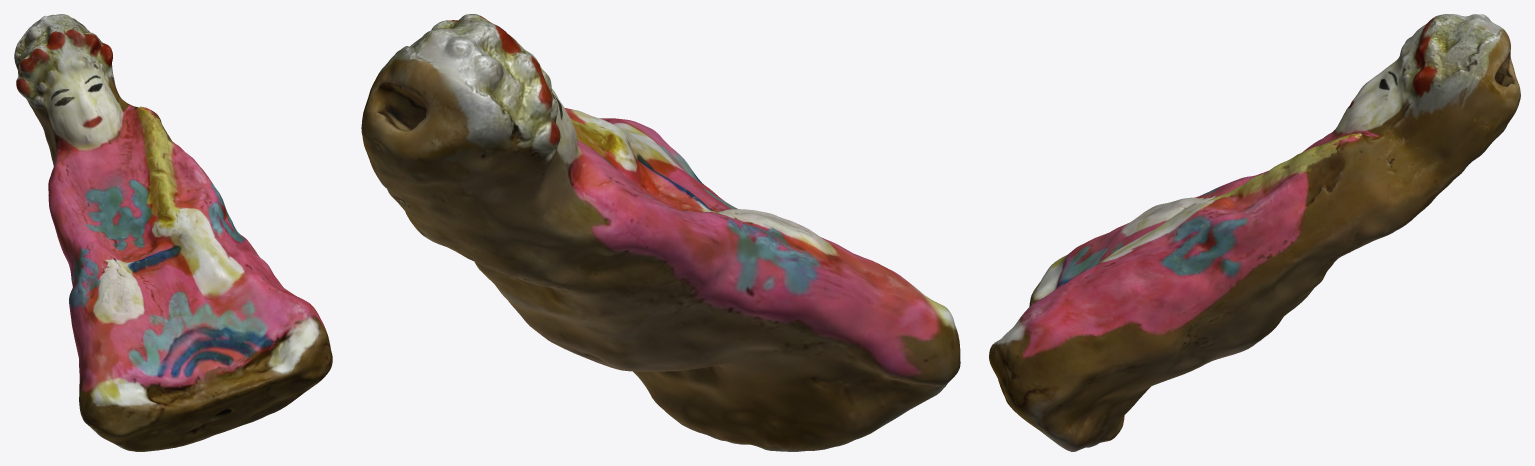
The picture shows the model from 3 angles, left to right: view 1: azimuth 30°, elevation 25°; view 2: azimuth 150°, elevation 25°; view 3: azimuth 270°, elevation 25°; orthographic projection. The views are drawn at different scales.
Size of the model in its own units: 0.5812 by 0.7774 by 0.8917.
Materials: 1 (1 with a texture image).
